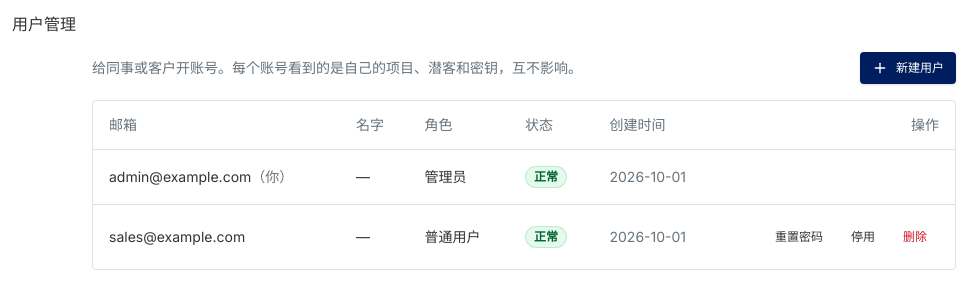
SettingsUsers › disables a user and shows the new status
Click the button "停用" at {"x": 863, "y": 236}, box [839,220,887,252]
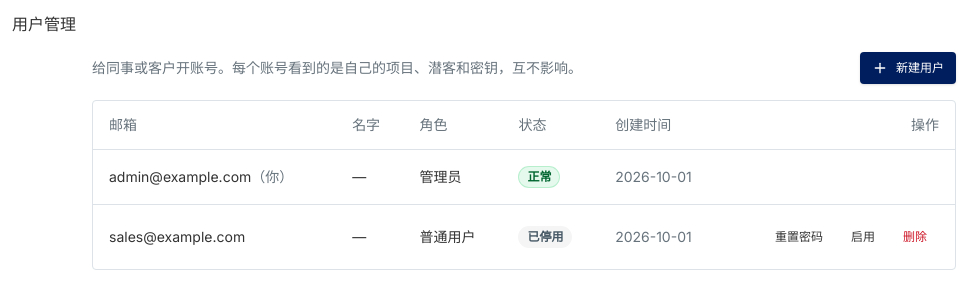
Check: the text "已停用" is shown, box [518,226,572,248]
